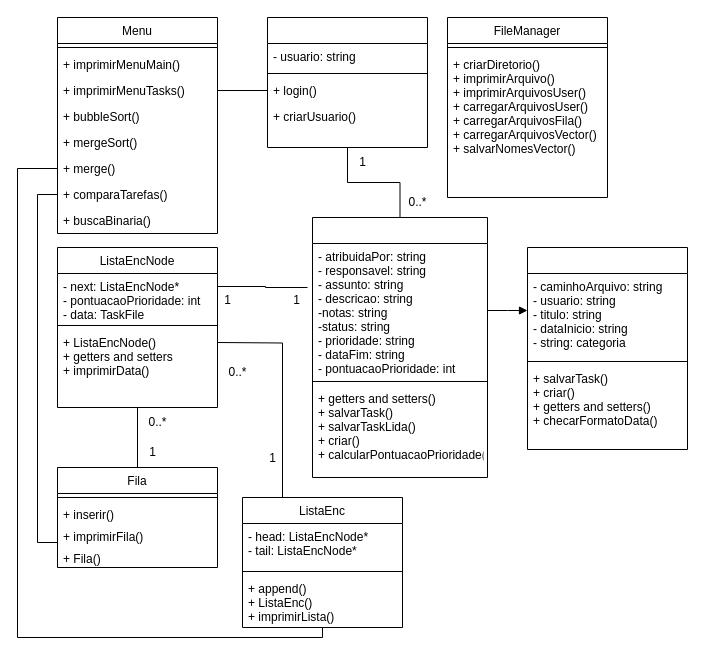
Image size: 705x656. Some labels were removed from this diagram. The shapes that lost their labels are listed below. From the top down, each one's box as (x1, y1, x2, y2) in pixels, then its label:
(266, 16, 428, 148): UserAuth
(312, 216, 488, 478): TaskFile
(526, 246, 688, 450): File
